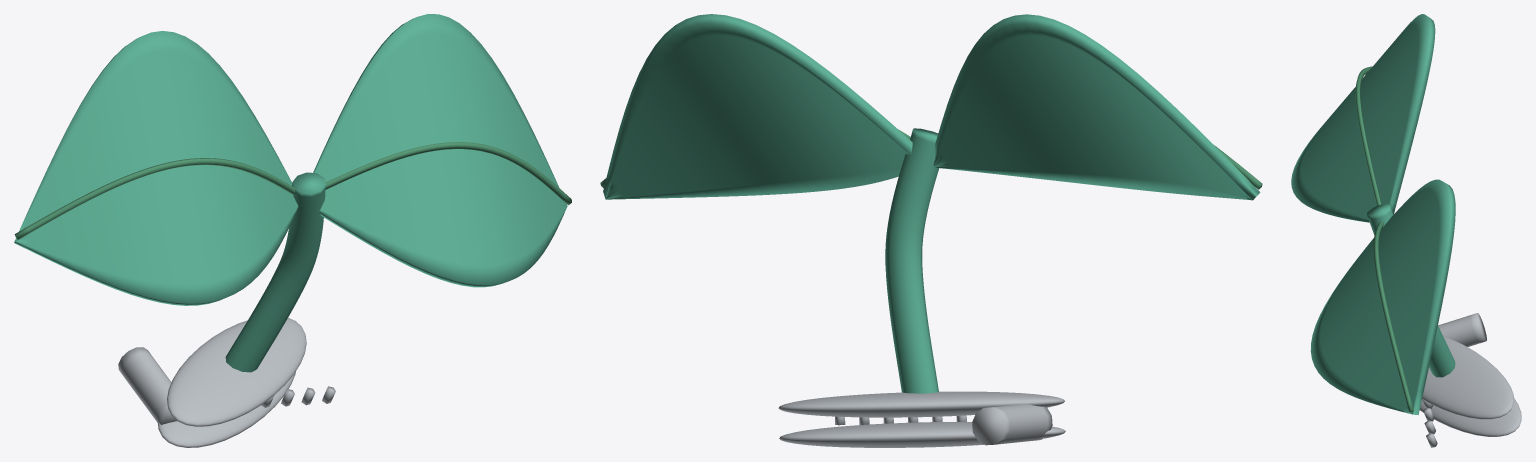
The model's file is Masculine-locs-headband252-sprout.glb.
3 views of the same model, side by side, from view 1: azimuth 30°, elevation 25°; view 2: azimuth 150°, elevation 25°; view 3: azimuth 270°, elevation 25° (orthographic). The views are drawn at different scales.
Parts seen in each view (by area): view 1: 226 extra / Accessory / mint226, 226 extra / Sprout / clip silver235, 226 extra / Sprout / leaf vein235; view 2: 226 extra / Accessory / mint226, 226 extra / Sprout / clip silver235; view 3: 226 extra / Accessory / mint226, 226 extra / Sprout / clip silver235, 226 extra / Sprout / leaf vein235.
Boxes of the visible parts, x1,y1,x2,y2 form: 226 extra / Accessory / mint226: (14, 14, 567, 372); 226 extra / Sprout / clip silver235: (118, 318, 335, 447); 226 extra / Sprout / leaf vein235: (14, 142, 571, 239); 226 extra / Accessory / mint226: (603, 14, 1260, 393); 226 extra / Sprout / clip silver235: (778, 391, 1065, 447); 226 extra / Accessory / mint226: (1291, 14, 1455, 415); 226 extra / Sprout / clip silver235: (1419, 313, 1521, 447); 226 extra / Sprout / leaf vein235: (1355, 66, 1413, 412).
Size of the model in its own units: 0.2656 by 0.1821 by 0.108.
